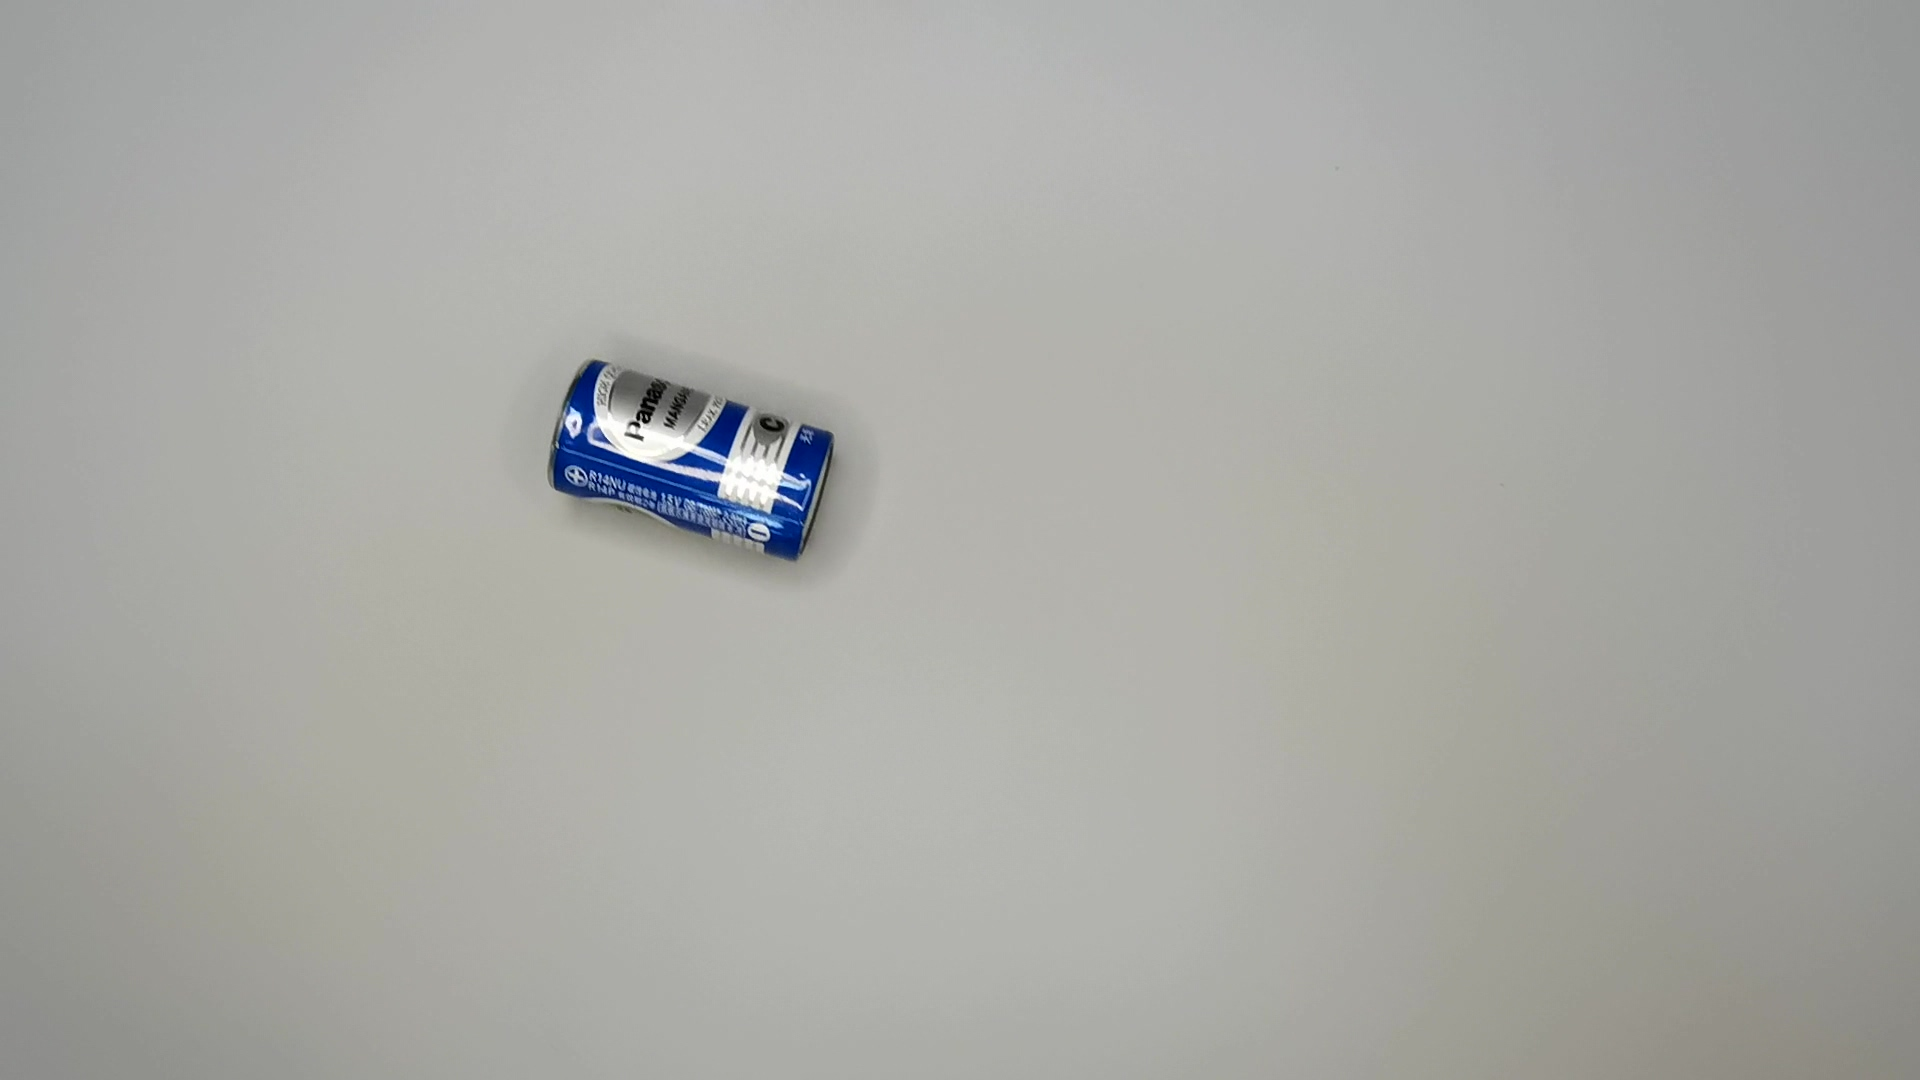battery: (541, 349, 844, 567)
